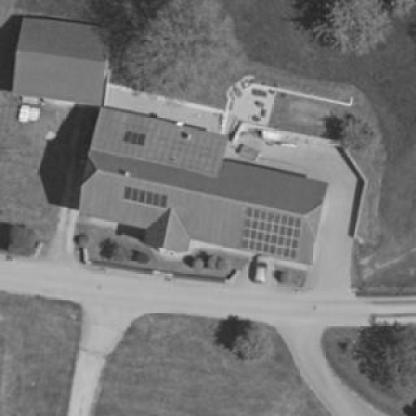solar-pv-panel: (240, 208, 301, 258), (122, 186, 168, 208), (123, 132, 146, 146)
